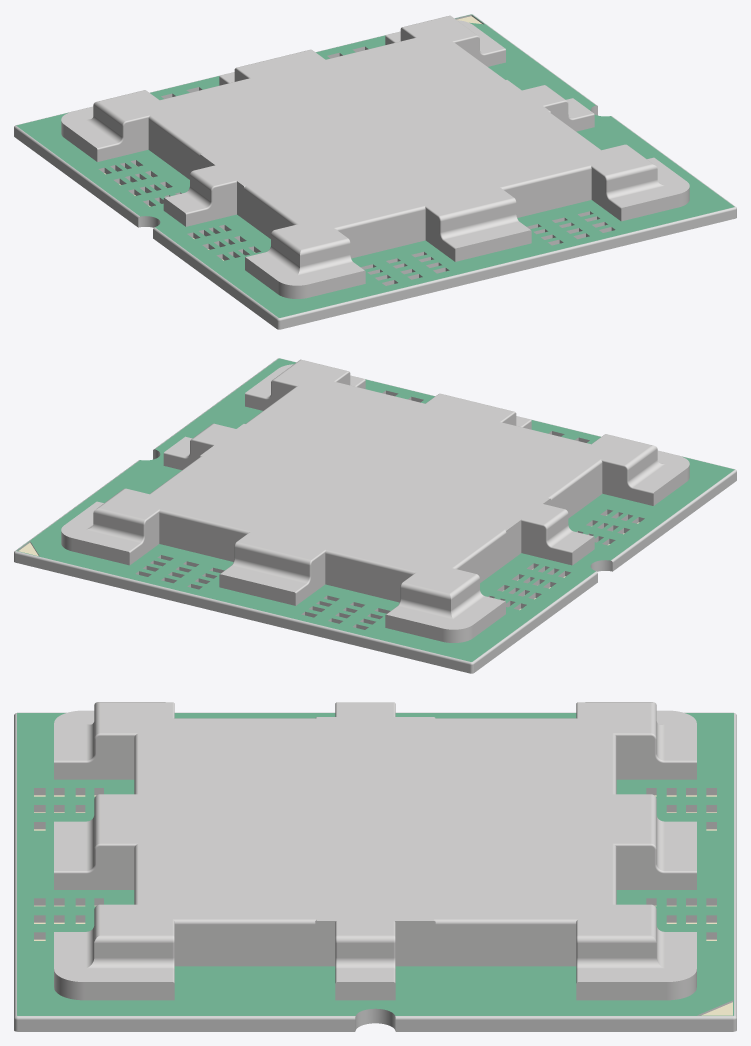
The model's file is Ryzen 7 9850X3D2.glb.
The picture shows the model from 3 angles, top to bottom: view 1: azimuth 30°, elevation 25°; view 2: azimuth 150°, elevation 25°; view 3: azimuth 270°, elevation 25°; orthographic projection. The views are drawn at different scales.
Visible parts, largest first — view 1: Ryzen 7 9850X3D2.ipt; view 2: Ryzen 7 9850X3D2.ipt; view 3: Ryzen 7 9850X3D2.ipt.
Part boxes in pixels (x1,y1,x2,y2): Ryzen 7 9850X3D2.ipt: [14, 14, 736, 329]; Ryzen 7 9850X3D2.ipt: [14, 358, 736, 673]; Ryzen 7 9850X3D2.ipt: [14, 702, 736, 1031].
Size of the model in its own units: 0.036 by 0.0033 by 0.036.
